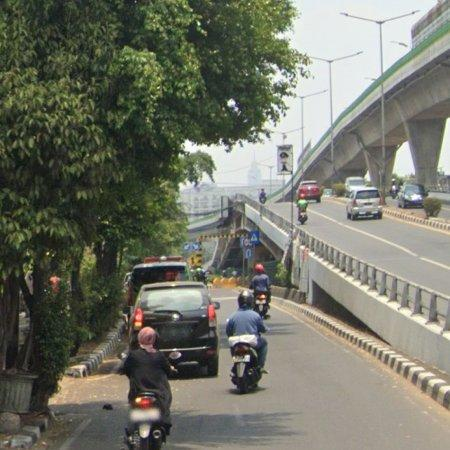motorcycles: (230, 336, 262, 394)
